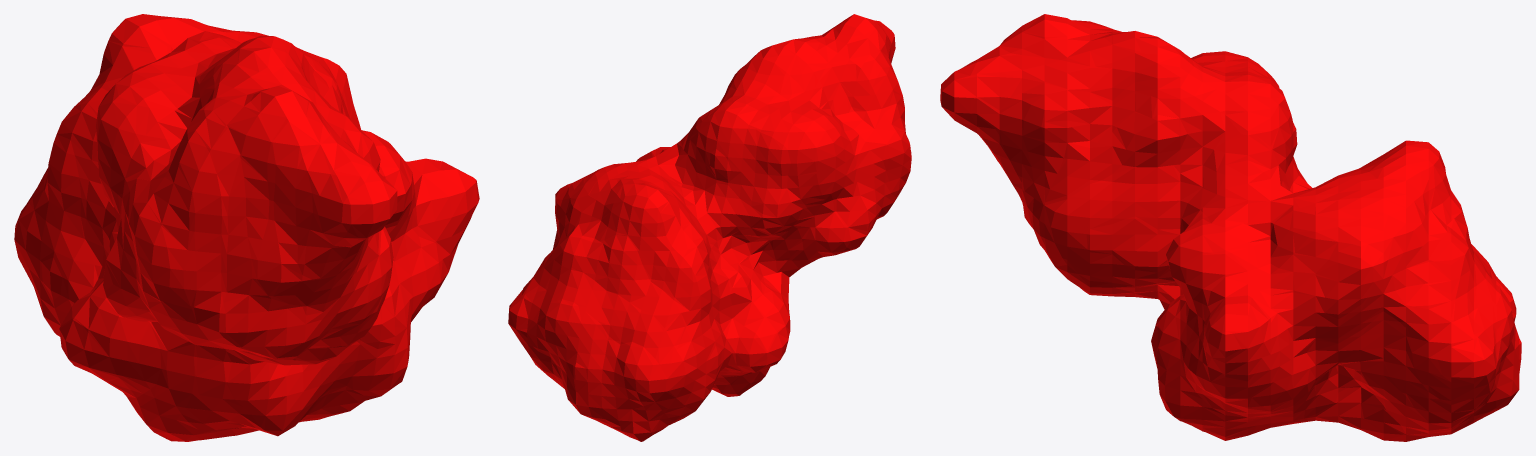
Rendered from ppx_coarse.dae.
3 renders of one model, left to right at view 1: azimuth 30°, elevation 25°; view 2: azimuth 150°, elevation 25°; view 3: azimuth 270°, elevation 25°, orthographic. The views are drawn at different scales.
Parts seen in each view (by area): view 1: ppx; view 2: ppx; view 3: ppx.
Part boxes in pixels (x1=…): ppx: x1=14, y1=14, x2=479, y2=441; ppx: x1=508, y1=14, x2=911, y2=441; ppx: x1=940, y1=14, x2=1521, y2=441.
Bounding box in the file's own units: 61.55 × 65.88 × 91.83.
